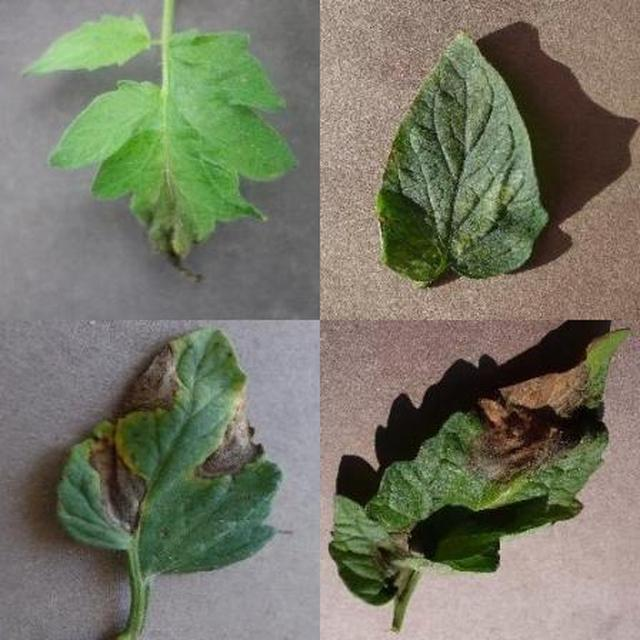Late Blight Leaf: (121, 61, 640, 640)
